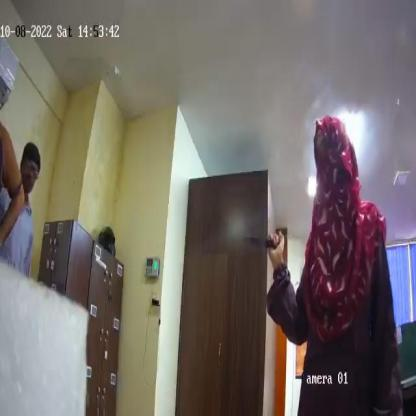Knife: (241, 234, 280, 252)
